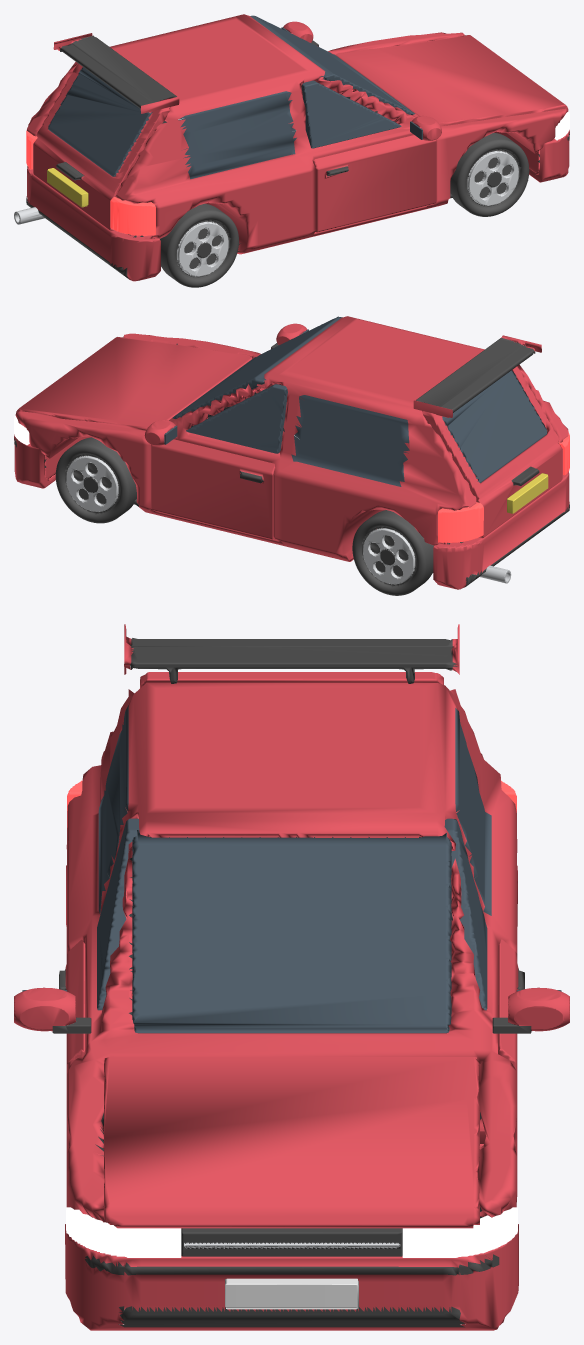
Rendered from car.glb.
The picture shows the model from 3 angles, top to bottom: view 1: azimuth 30°, elevation 25°; view 2: azimuth 150°, elevation 25°; view 3: azimuth 270°, elevation 25°; orthographic projection. The views are drawn at different scales.
Parts seen in each view (by area): view 1: body, door_right, bonnet, tailgate, bumper_rear, wheel_front_right, wheel_rear_right, spoiler, windscreen, taillight_right, bumper_front, plate_rear (+3 smaller); view 2: body, door_left, bonnet, tailgate, bumper_rear, wheel_rear_left, wheel_front_left, spoiler, windscreen, taillight_left, bumper_front, plate_rear (+3 smaller); view 3: body, bonnet, windscreen, bumper_front, spoiler, grille, door_right, door_left, plate_front, headlight_left, headlight_right, tailgate (+2 smaller).
Boxes of the visible parts, box(x1,y1,x2,y2) form: body: box(27, 14, 567, 254); door_right: box(301, 80, 436, 232); bonnet: box(337, 35, 568, 126); tailgate: box(33, 63, 170, 230); bumper_rear: box(26, 166, 160, 281); wheel_front_right: box(450, 133, 529, 216); wheel_rear_right: box(160, 203, 238, 287); spoiler: box(53, 33, 179, 113); windscreen: box(250, 15, 414, 114); taillight_right: box(110, 197, 155, 235); bumper_front: box(529, 130, 569, 182); plate_rear: box(47, 168, 88, 207); body: box(17, 316, 568, 572); door_left: box(151, 384, 287, 539); bonnet: box(15, 337, 252, 429); tailgate: box(422, 366, 562, 538); bumper_rear: box(433, 471, 569, 589); wheel_rear_left: box(352, 510, 433, 595); wheel_front_left: box(55, 437, 136, 523); spoiler: box(413, 335, 541, 417); windscreen: box(172, 316, 342, 418); taillight_left: box(438, 502, 483, 542); bumper_front: box(14, 434, 55, 488); plate_rear: box(507, 473, 548, 513); body: box(66, 682, 517, 1260); bonnet: box(104, 1057, 479, 1228); windscreen: box(132, 830, 451, 1033); bumper_front: box(65, 1224, 518, 1330); spoiler: box(124, 624, 459, 683); grille: box(181, 1228, 402, 1256); door_right: box(59, 818, 139, 1099); door_left: box(444, 818, 524, 1101); plate_front: box(225, 1278, 358, 1309); headlight_left: box(402, 1207, 517, 1257); headlight_right: box(66, 1207, 181, 1257); tailgate: box(140, 672, 443, 688).
Size of the model in its own units: 41.35 by 15.15 by 21.6.
